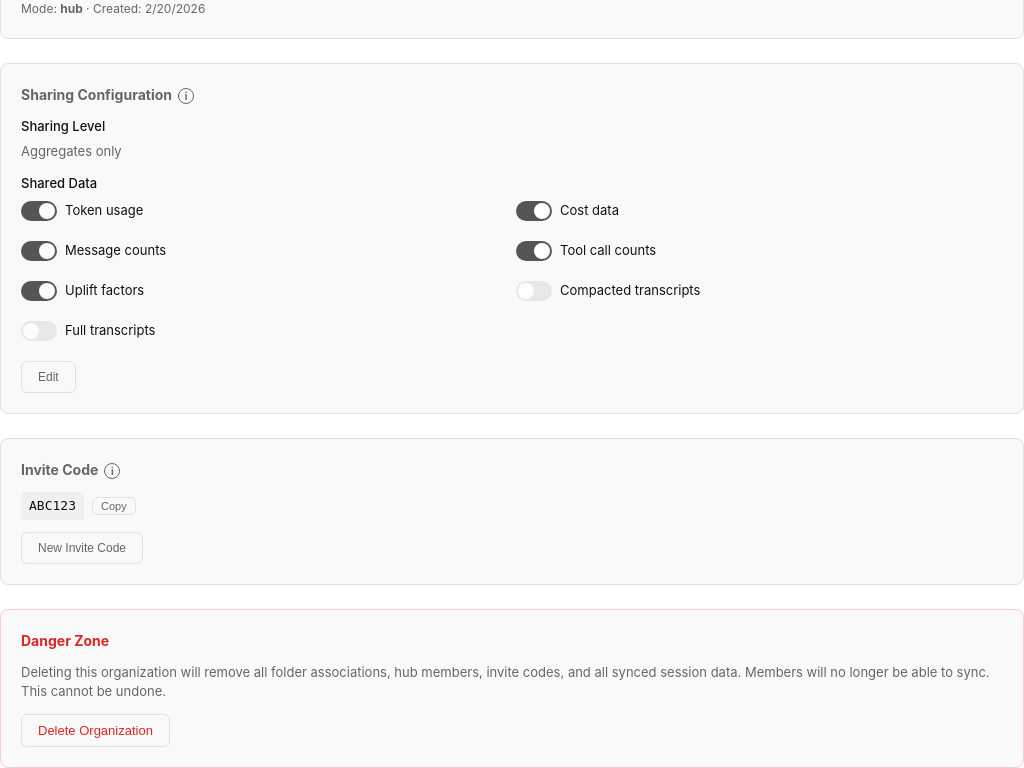
Test: OrganizationSettings › Danger Zone › delete button is disabled until name is typed correctly
The width and height of the screenshot is (1024, 768).
(page scrolled)
Click the button "Delete Organization" at (95, 730), box [21,714,170,746]
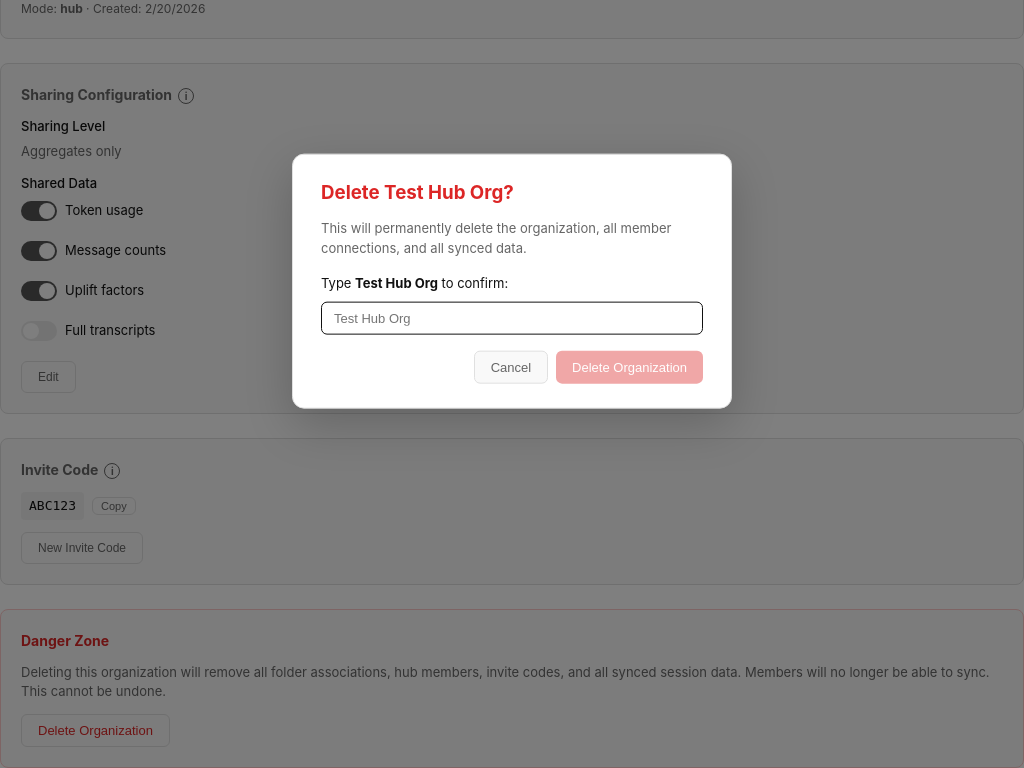
Check: the heading "Delete Test Hub Org?" is shown, box [321,181,514,204]
Check: the button "Delete Organization" is disabled, box [556,351,703,384]
// Type wrong name
Type "Wrong Name" into the field with placeholder "Test Hub Org" at (512, 318), box [321,302,703,335]
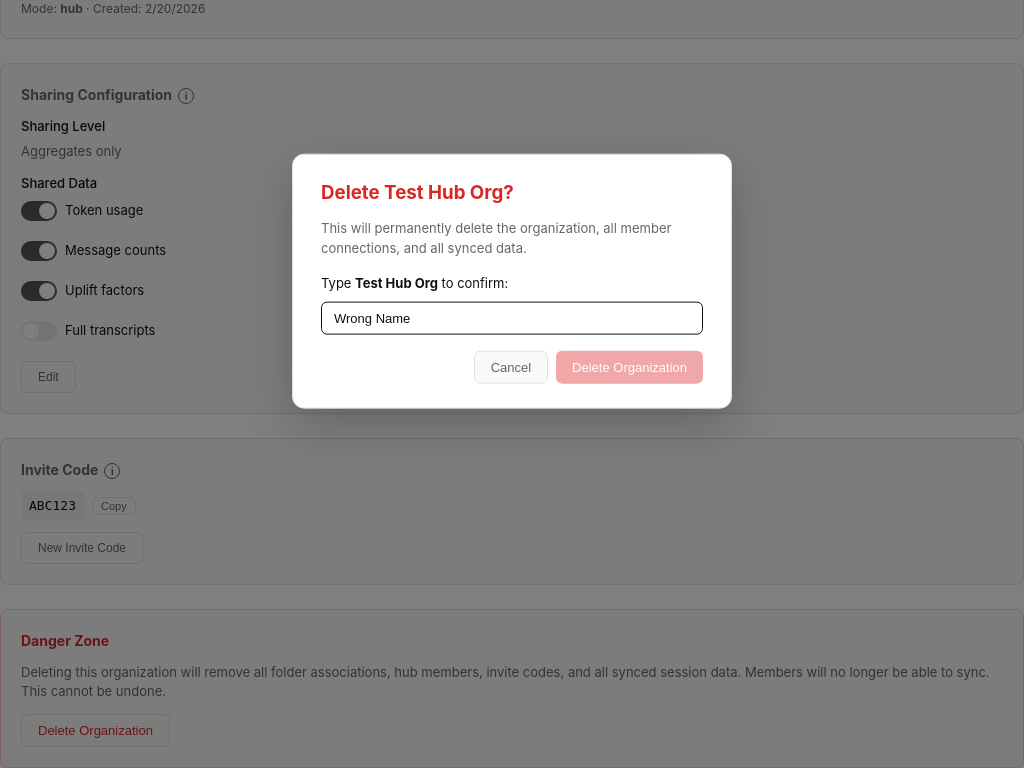
Check: the button "Delete Organization" is disabled, box [556,351,703,384]
// Type correct name
Replace the text in the field with placeholder "Test Hub Org" with "Test Hub Org" at (512, 318), box [321,302,703,335]
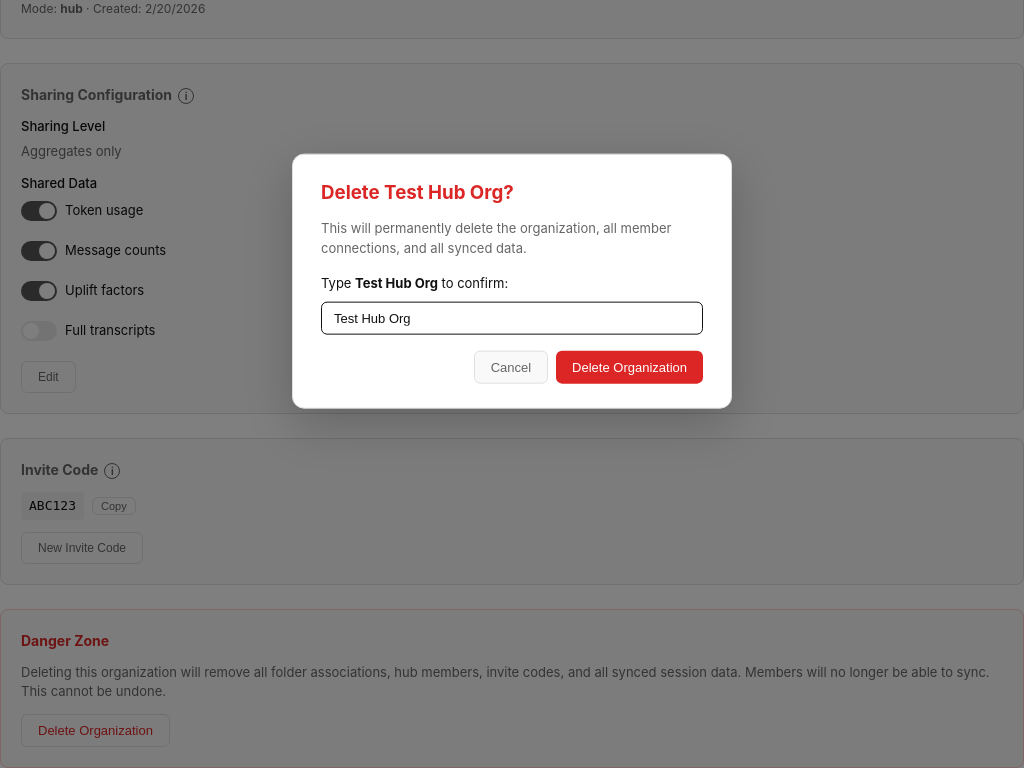
Check: the button "Delete Organization" is enabled, box [556,351,703,384]
